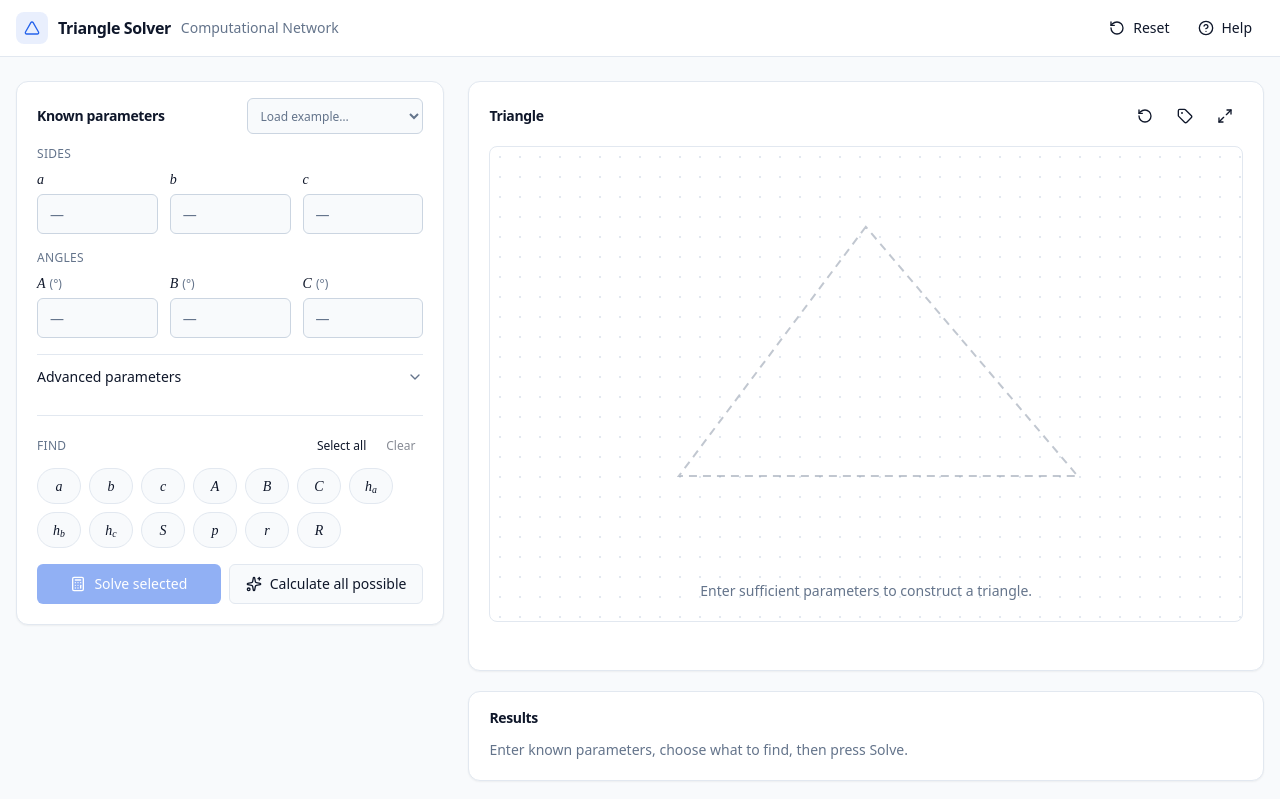
Test case: App › shows loading and prevents duplicate submissions
This screenshot has width=1280, height=799.
Type "3" into the field with id "input-a". click: (97,214)
box: [37,194,158,234]
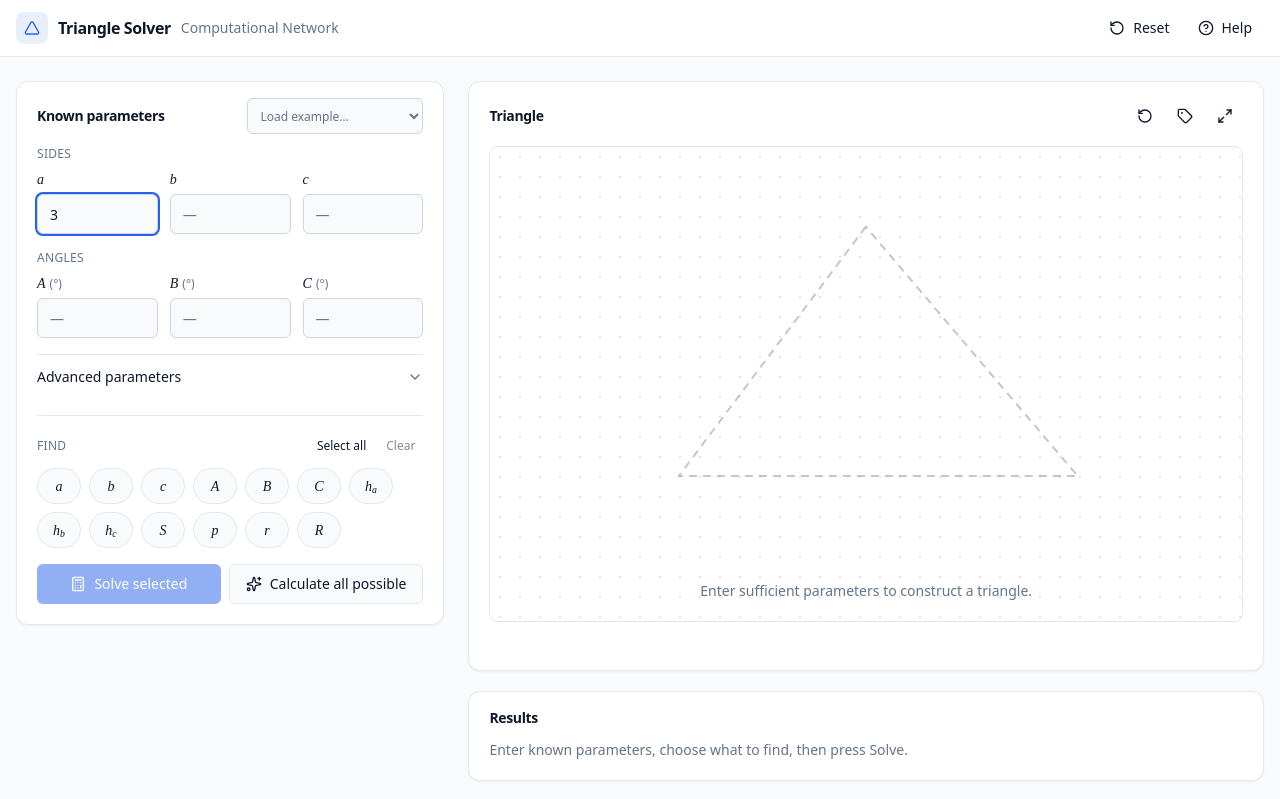
Click the button "S". click: (163,530)
box: [141,512,185,548]
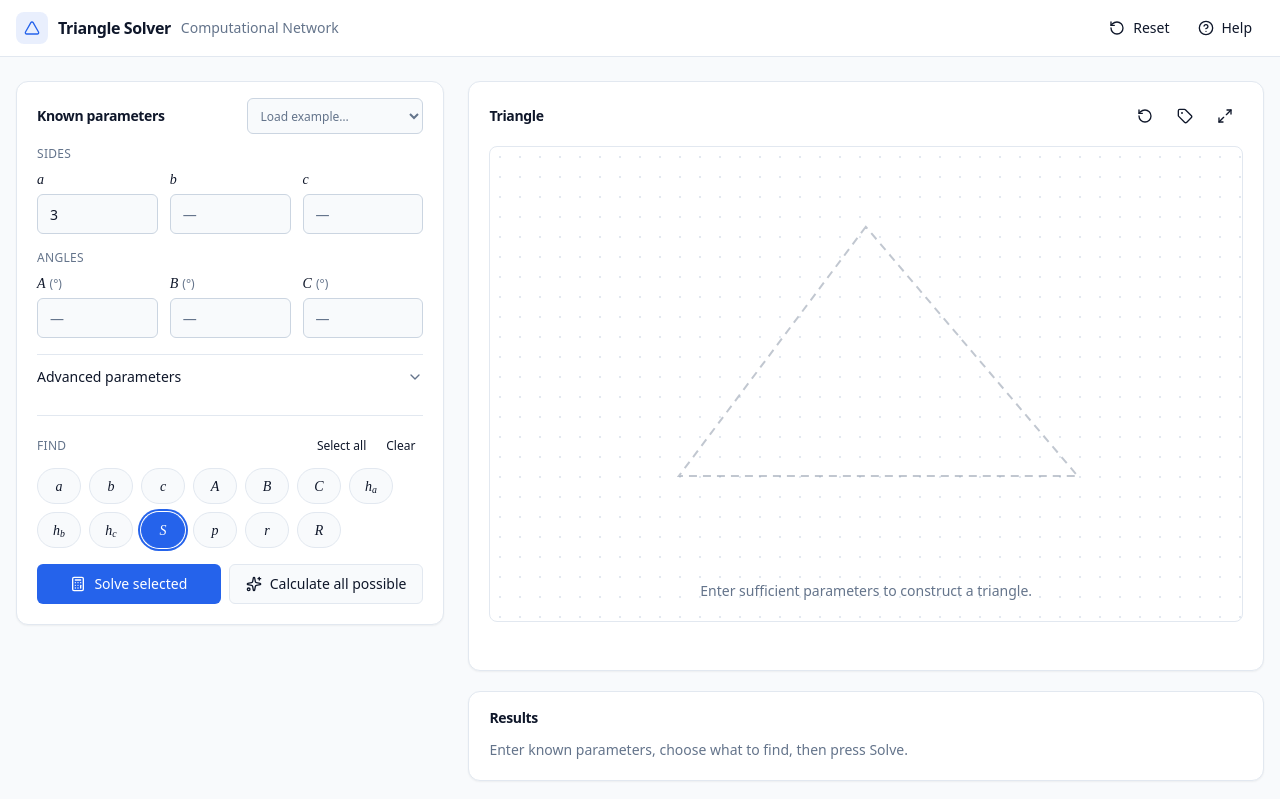
Click the button "Solve selected". click: (129,584)
box: [37,564,221,604]
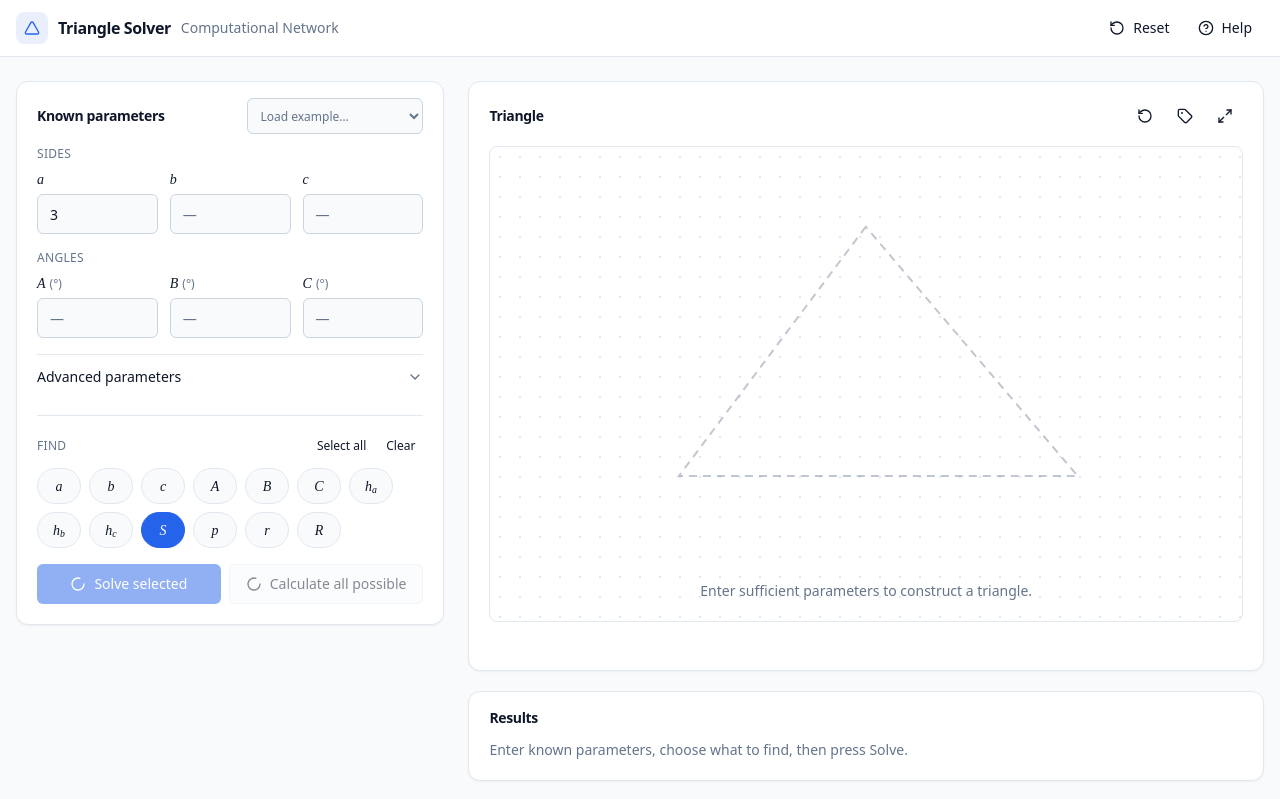
Expected: the button "Solve selected" is disabled
Expected: the button "Calculate all possible" is disabled, [229,564,423,604]
Click the button "Solve selected". click: (129,584)
box: [37,564,221,604]
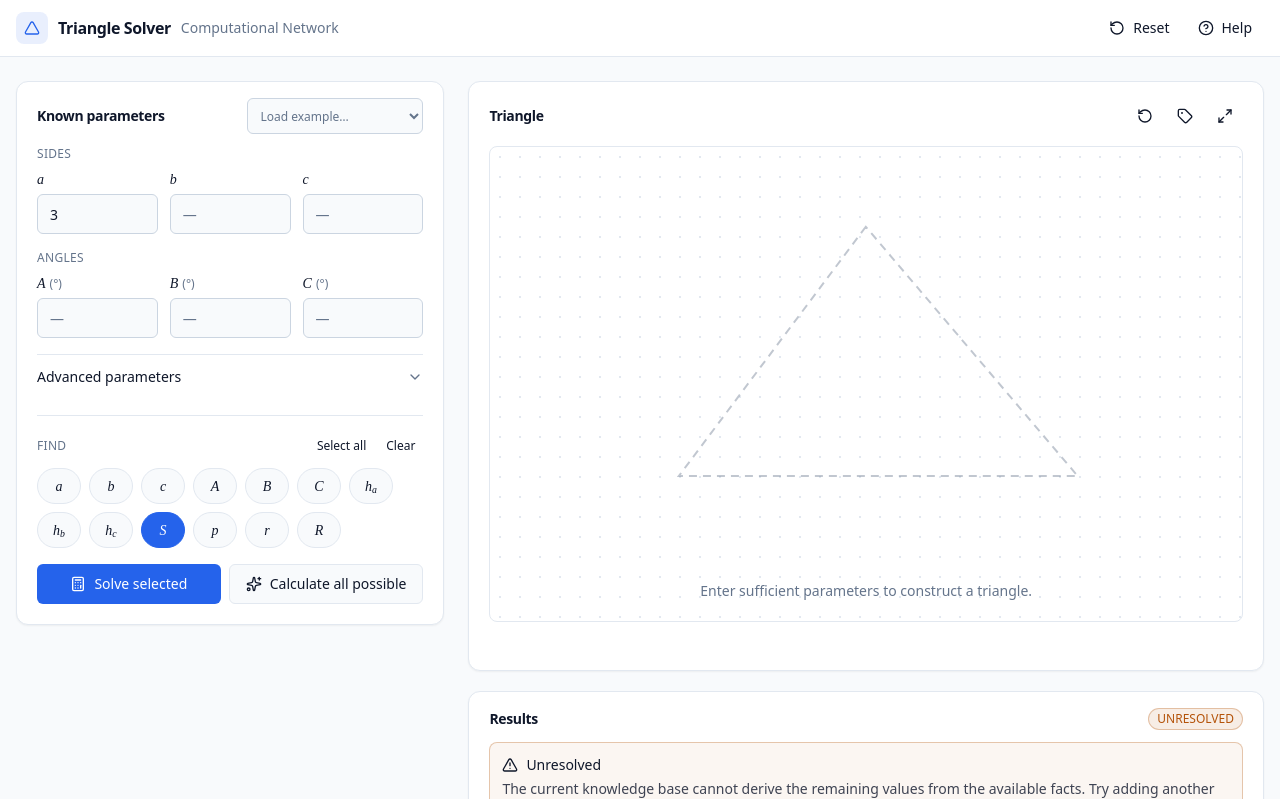
Expected: the text "Enter sufficient parameters to construct a triangle." is shown, [700,581,1032,600]
Expected: the text with test id "status-badge" reads "UNRESOLVED", [1157,710,1234,727]
